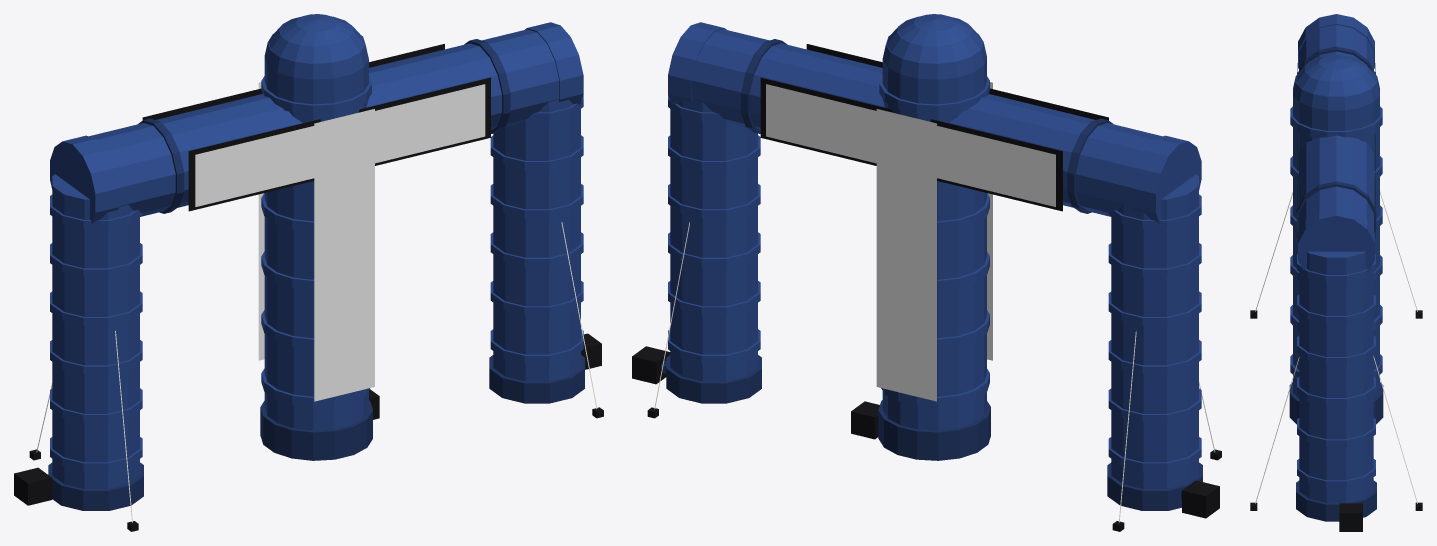
The model's file is inflatable.glb.
3 renders of one model, left to right at view 1: azimuth 30°, elevation 25°; view 2: azimuth 150°, elevation 25°; view 3: azimuth 270°, elevation 25°, orthographic. The views are drawn at different scales.
Visible parts, largest first — view 1: Arch, Column, ColumnWords0, ArchWords, ColumnWords1; view 2: Arch, Column, ColumnWords1, ArchWords, ColumnWords0; view 3: Arch, Column.
Part boxes in pixels (box(x1,y1,x2,y2)): Arch: box(14, 22, 603, 531); Column: box(260, 14, 379, 460); ColumnWords0: box(314, 109, 374, 401); ArchWords: box(195, 84, 485, 206); ColumnWords1: box(258, 82, 264, 360); Arch: box(632, 22, 1221, 531); Column: box(851, 14, 990, 460); ColumnWords1: box(876, 109, 936, 401); ArchWords: box(766, 84, 1055, 206); ColumnWords0: box(987, 82, 992, 360); Arch: box(1250, 14, 1422, 531); Column: box(1289, 55, 1383, 424).
Size of the model in its own units: 9.5 by 6.6 by 2.92.
